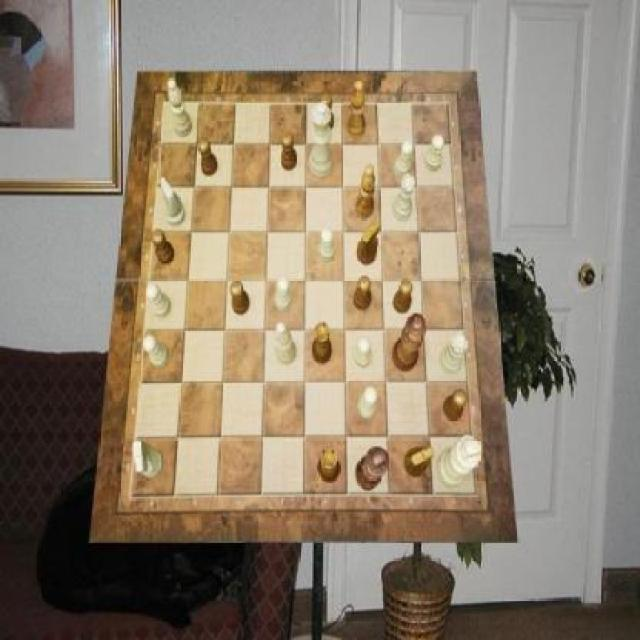bishop: (356, 165, 376, 219), (348, 80, 365, 138)
black-bishop: (357, 448, 391, 492)
black-king: (357, 220, 380, 265), (404, 446, 434, 479)
black-knight: (152, 229, 175, 264), (443, 391, 467, 423), (198, 137, 218, 175), (318, 94, 336, 134), (231, 282, 251, 316), (394, 279, 414, 313), (282, 132, 298, 171), (354, 275, 371, 310)
black-pawn: (392, 314, 428, 372)
black-queen: (312, 321, 332, 364), (317, 448, 340, 484)
black-rook: (169, 78, 194, 137), (275, 321, 298, 364)
white-bishop: (437, 436, 481, 490)
white-king: (158, 177, 186, 226), (134, 442, 164, 479)
white-knight: (146, 283, 171, 319), (143, 336, 169, 370), (394, 140, 414, 178), (426, 134, 446, 171), (357, 386, 377, 420), (320, 228, 337, 262), (276, 275, 292, 310), (354, 337, 371, 369)
white-pawn: (309, 101, 334, 178)
white-queen: (440, 334, 468, 374), (394, 174, 417, 221)
